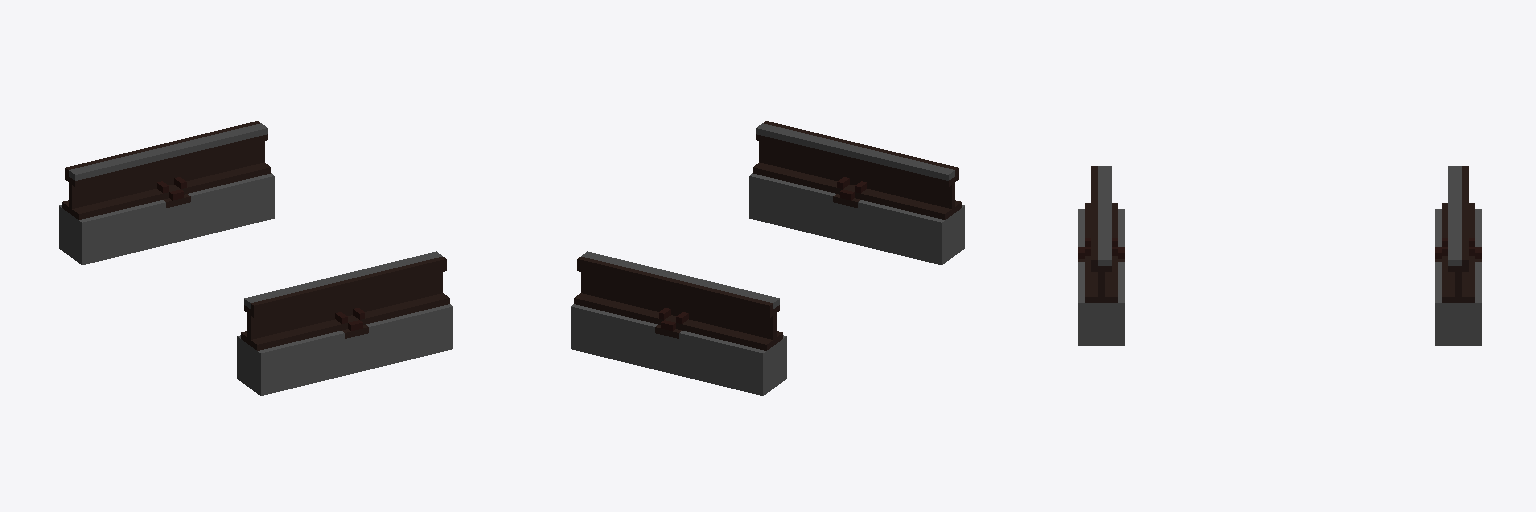
The picture shows the model from 3 angles: view 1: azimuth 30°, elevation 25°; view 2: azimuth 150°, elevation 25°; view 3: azimuth 270°, elevation 25°; orthographic projection.
Visible parts, largest first — view 1: RAIL_BASE_1, RAIL_RIGHT, RAIL_LEFT, RAIL_BASE; view 2: RAIL_BASE_1, RAIL_RIGHT, RAIL_LEFT, RAIL_BASE; view 3: RAIL_BASE_1, RAIL_RIGHT, RAIL_LEFT, RAIL_BASE.
Boxes of the visible parts, <box> form: RAIL_BASE_1: <box>59,173,452,395</box>; RAIL_RIGHT: <box>62,121,270,219</box>; RAIL_LEFT: <box>241,251,449,350</box>; RAIL_BASE: <box>157,177,364,330</box>; RAIL_BASE_1: <box>571,173,964,395</box>; RAIL_RIGHT: <box>574,251,782,350</box>; RAIL_LEFT: <box>753,121,961,219</box>; RAIL_BASE: <box>659,177,866,330</box>; RAIL_BASE_1: <box>1078,209,1481,345</box>; RAIL_RIGHT: <box>1442,166,1474,302</box>; RAIL_LEFT: <box>1085,166,1117,302</box>; RAIL_BASE: <box>1078,238,1481,258</box>.
Size of the model in its own units: 1.03 by 0.4375 by 1.88.
1 materials, 1 textured.